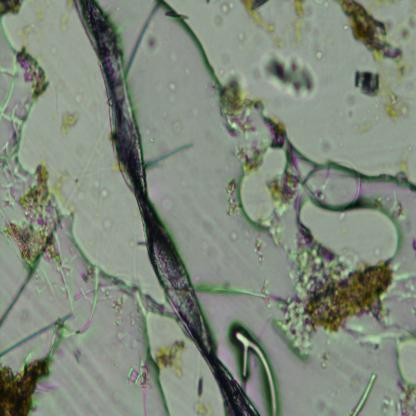Air bubble: (296, 191, 404, 279), (239, 137, 288, 224), (396, 336, 416, 384)
Background material: (276, 249, 395, 350), (5, 158, 67, 282), (0, 313, 71, 415), (218, 72, 286, 173), (337, 1, 414, 78), (260, 43, 318, 101), (195, 278, 289, 310), (0, 87, 25, 193), (270, 149, 308, 211), (14, 46, 51, 99), (241, 0, 281, 42), (377, 80, 413, 125), (145, 139, 195, 169), (154, 335, 186, 379), (17, 6, 47, 48), (382, 381, 416, 416), (122, 355, 151, 396), (373, 190, 406, 222), (222, 176, 244, 219), (292, 0, 311, 46), (153, 107, 182, 137), (88, 172, 113, 202), (58, 112, 80, 140), (162, 76, 186, 100), (141, 30, 161, 58), (253, 234, 268, 267), (349, 108, 368, 134), (395, 154, 411, 184), (58, 12, 75, 33), (98, 216, 115, 233), (219, 1, 238, 16)
Cotton: (76, 1, 262, 415)
Diatom: (352, 63, 379, 93)
Glass filter fibre: (229, 321, 280, 414), (349, 372, 376, 414)
